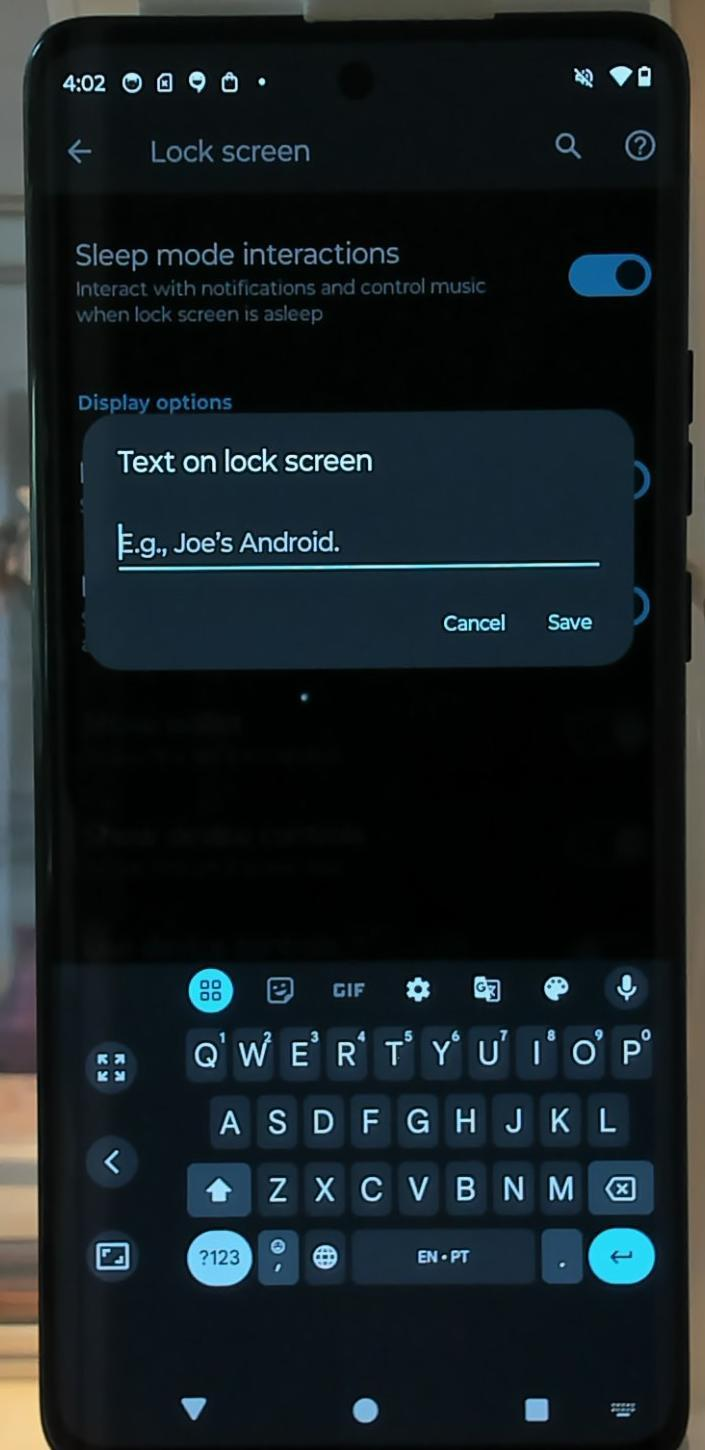TextField: (103, 508, 619, 580)
TextKeyboard: (176, 1019, 666, 1293)
